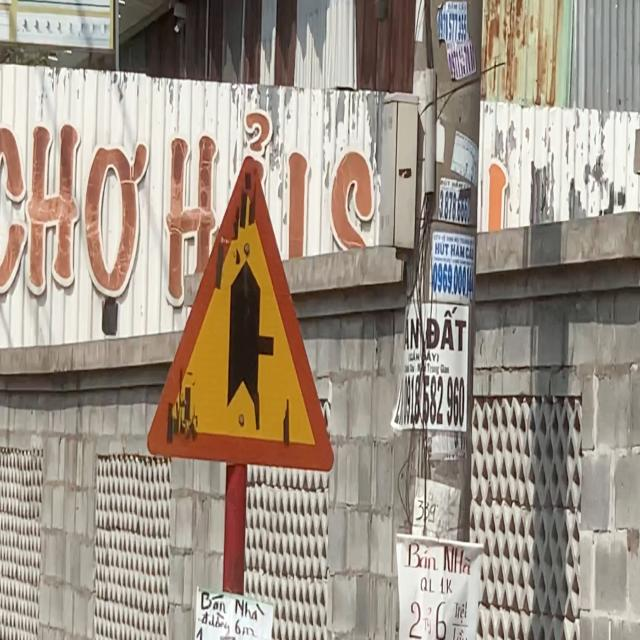Giao voi duong khong uu tien: (138, 137, 343, 484)
